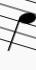HC: (6, 1, 36, 55)
